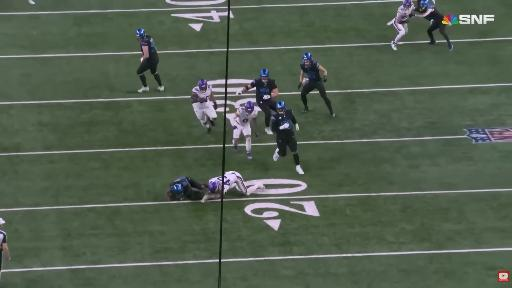Helmet: (170, 183, 184, 195), (208, 181, 219, 193), (136, 28, 146, 40), (245, 101, 254, 114), (260, 69, 269, 82), (303, 53, 312, 66), (198, 79, 207, 91), (420, 0, 432, 8), (277, 102, 285, 113), (403, 0, 412, 8)
Jersey: (170, 177, 202, 199), (271, 109, 296, 137), (209, 172, 239, 193), (251, 78, 277, 102), (415, 0, 443, 20), (235, 107, 257, 126), (140, 35, 157, 59), (301, 61, 321, 81), (397, 4, 414, 23), (192, 85, 212, 101)
Player: (236, 69, 278, 134), (298, 53, 334, 116), (272, 102, 303, 174), (202, 172, 265, 202), (417, 0, 453, 50), (136, 29, 164, 92), (231, 102, 257, 159), (191, 79, 217, 133), (387, 0, 414, 50), (167, 177, 207, 201)
